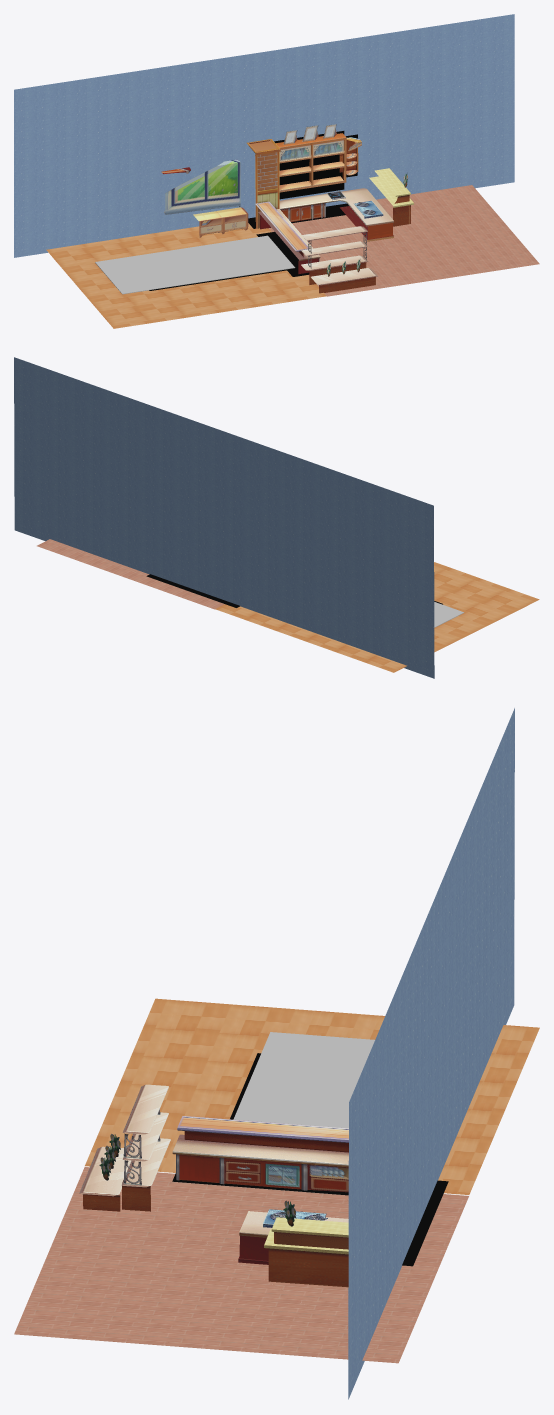
The picture shows the model from 3 angles, top to bottom: view 1: azimuth 30°, elevation 25°; view 2: azimuth 150°, elevation 25°; view 3: azimuth 270°, elevation 25°; orthographic projection. The views are drawn at different scales.
Visible parts, largest first — view 1: Wall1, C1_floor2, C1_floor1, Shelf, C1_Carpet, C1_Cupboard, wall3, wall2, Shelf_yy, Cupboard_yy, C1_0; view 2: Wall1, C1_floor1, C1_floor2, C1_Carpet, Cupboard_yy; view 3: Wall1, C1_floor2, C1_floor1, C1_Cupboard, C1_Carpet, Shelf, Cupboard_yy.
Boxes of the visible parts, x1,y1,x2,y2 form: Wall1: (14, 14, 514, 257); C1_floor2: (269, 185, 539, 296); C1_floor1: (46, 223, 326, 328); Shelf: (276, 124, 377, 293); C1_Carpet: (95, 235, 295, 294); C1_Cupboard: (255, 168, 414, 274); wall3: (161, 159, 248, 237); wall2: (247, 139, 280, 228); Shelf_yy: (274, 131, 357, 199); Cupboard_yy: (248, 203, 348, 276); C1_0: (326, 191, 383, 218); Wall1: (14, 357, 434, 678); C1_floor1: (215, 562, 539, 672); C1_floor2: (37, 539, 224, 609); C1_Carpet: (434, 602, 464, 627); Cupboard_yy: (146, 574, 240, 607); Wall1: (348, 708, 514, 1399); C1_floor2: (14, 1167, 468, 1363); C1_floor1: (85, 998, 539, 1194); C1_Cupboard: (172, 1116, 348, 1287); C1_Carpet: (233, 1032, 374, 1128); Shelf: (79, 1084, 170, 1211); Cupboard_yy: (172, 1173, 448, 1266).
Bounding box in the file's own units: 790 × 280 × 445.
